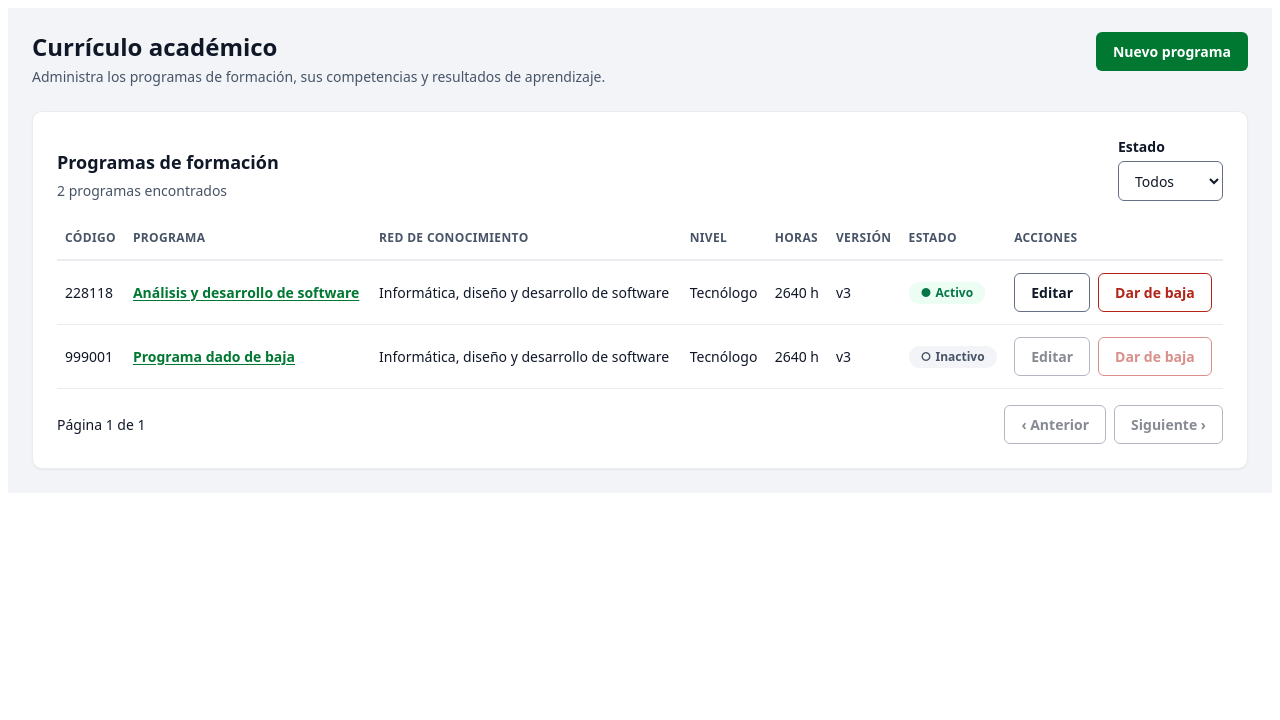
Test: ProgramsPage › E1: crea un programa con el cuerpo del contrato
Expected: the text "228118" is shown, 57,260 -> 125,324
Click the button "Nuevo programa" at (1172, 52), box 1096,32 -> 1248,71
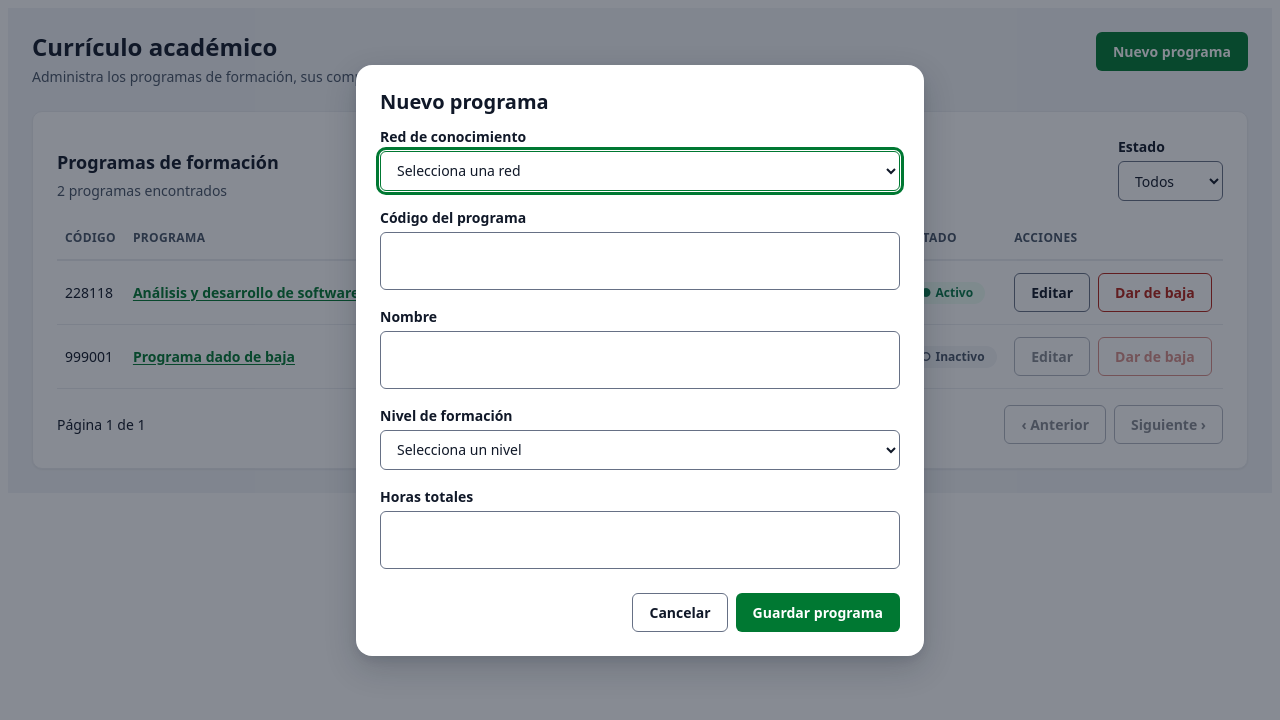
Select "Informática, diseño y desarrollo de software" in the dropdown labelled "Red de conocimiento" at (640, 170), box 380,150 -> 900,190
Type "900001" into the field labelled "Código del programa" at (640, 260), box 380,232 -> 900,290
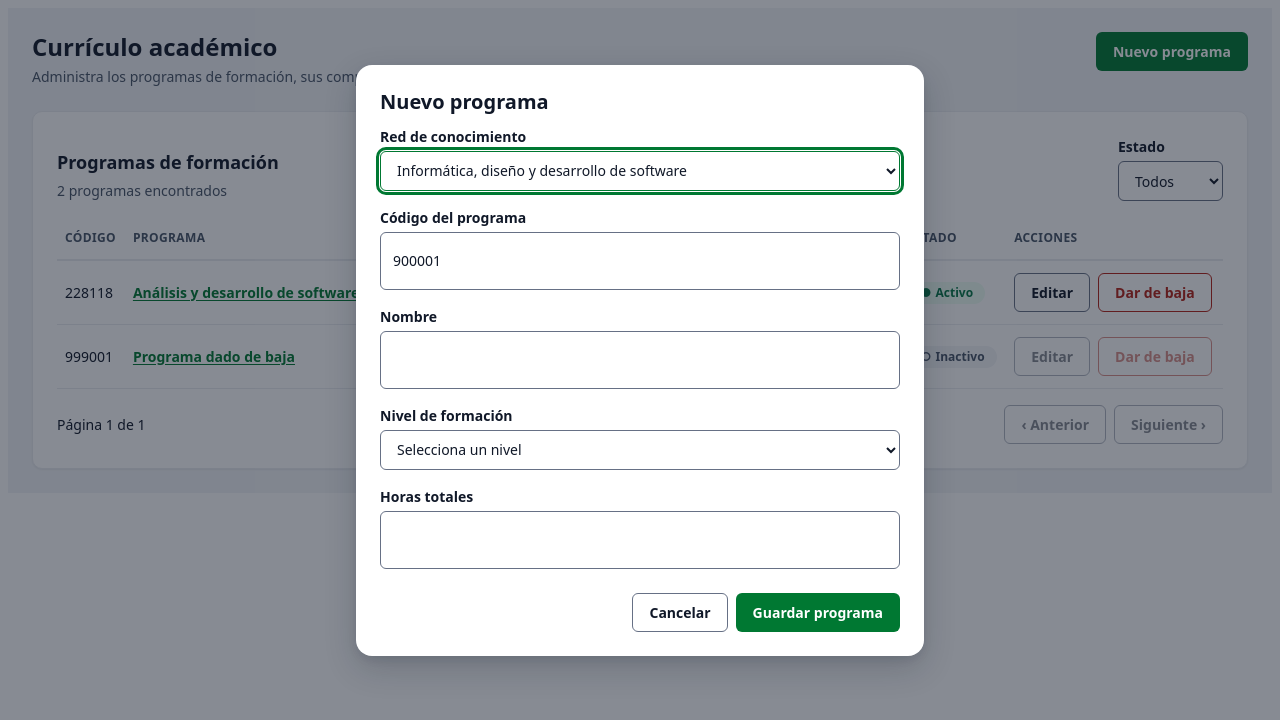
Type "Programa nuevo" into the field labelled "Nombre" at (640, 360), box 380,330 -> 900,388
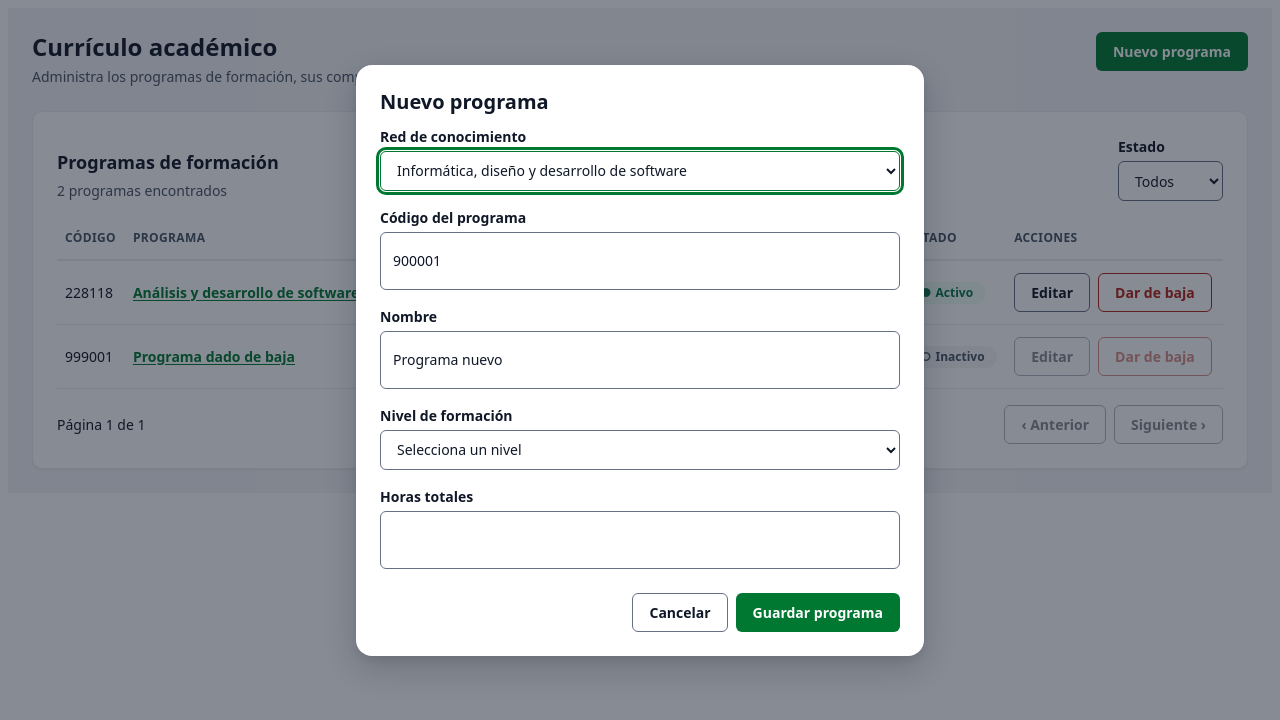
Select "Técnico" in the dropdown labelled "Nivel de formación" at (640, 450), box 380,430 -> 900,470
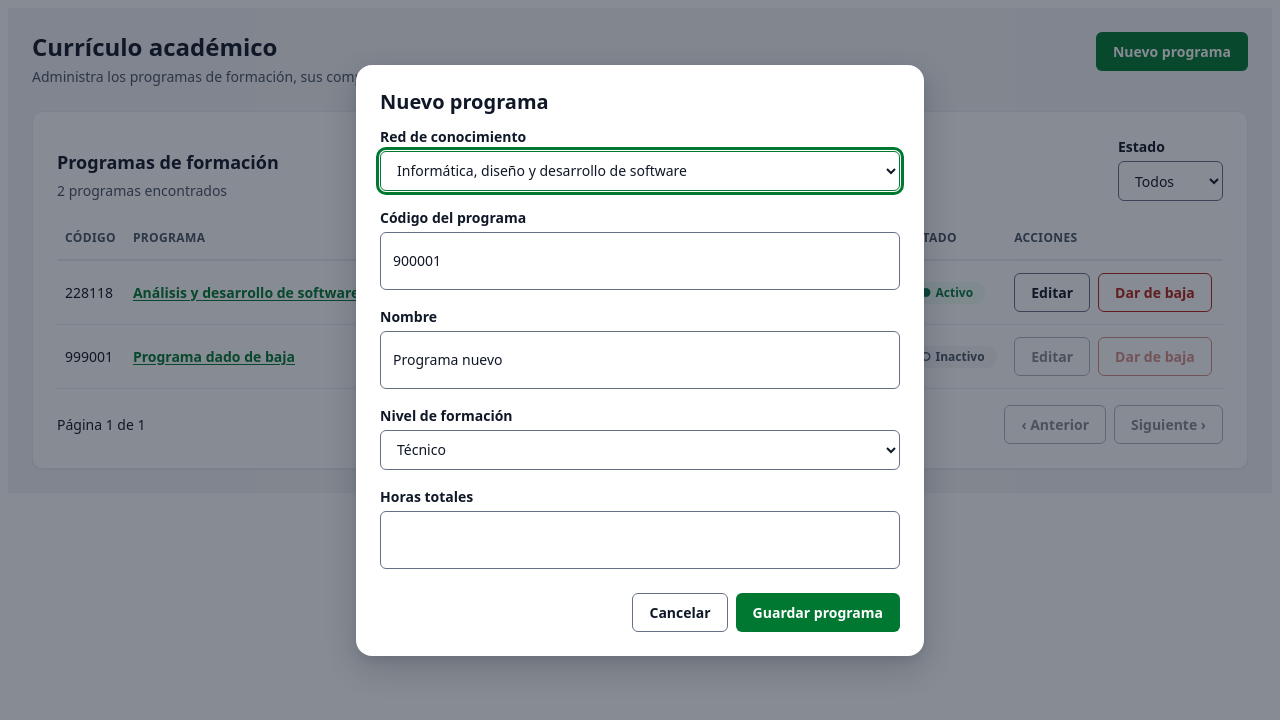
Type "1200" into the field labelled "Horas totales" at (640, 540), box 380,510 -> 900,568
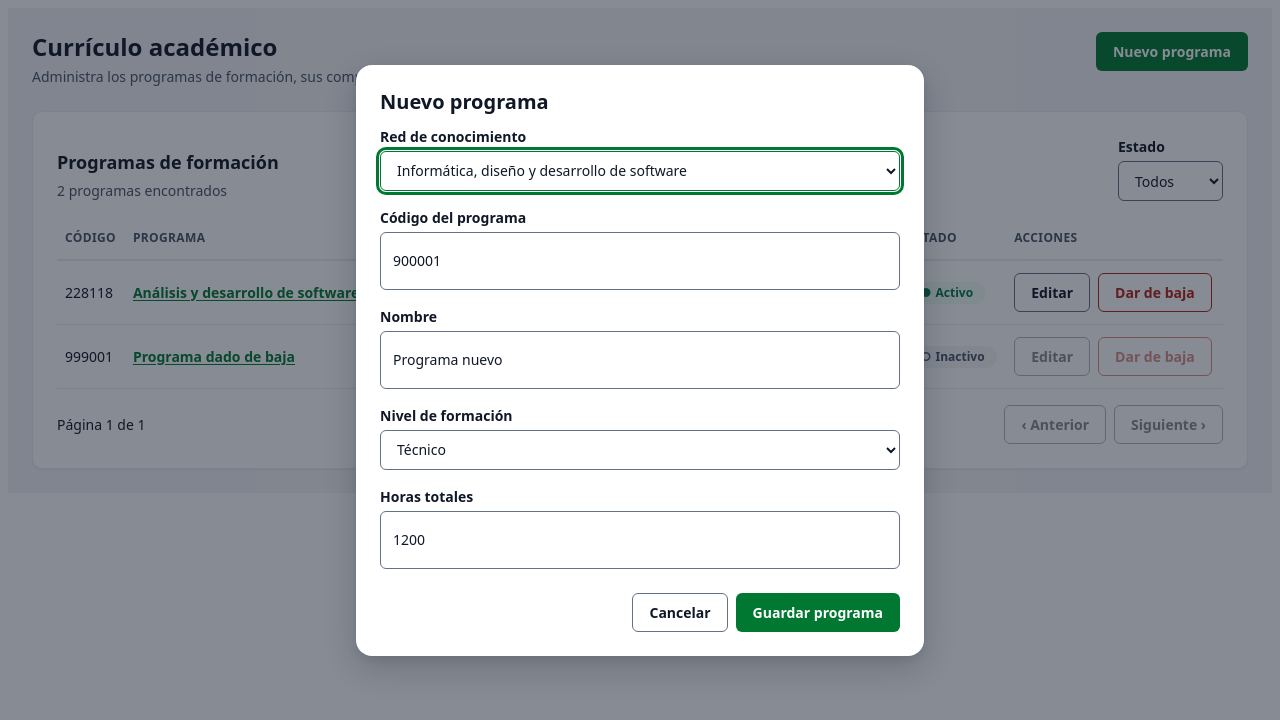
Click the button "Guardar programa" at (818, 612), box 736,592 -> 900,632
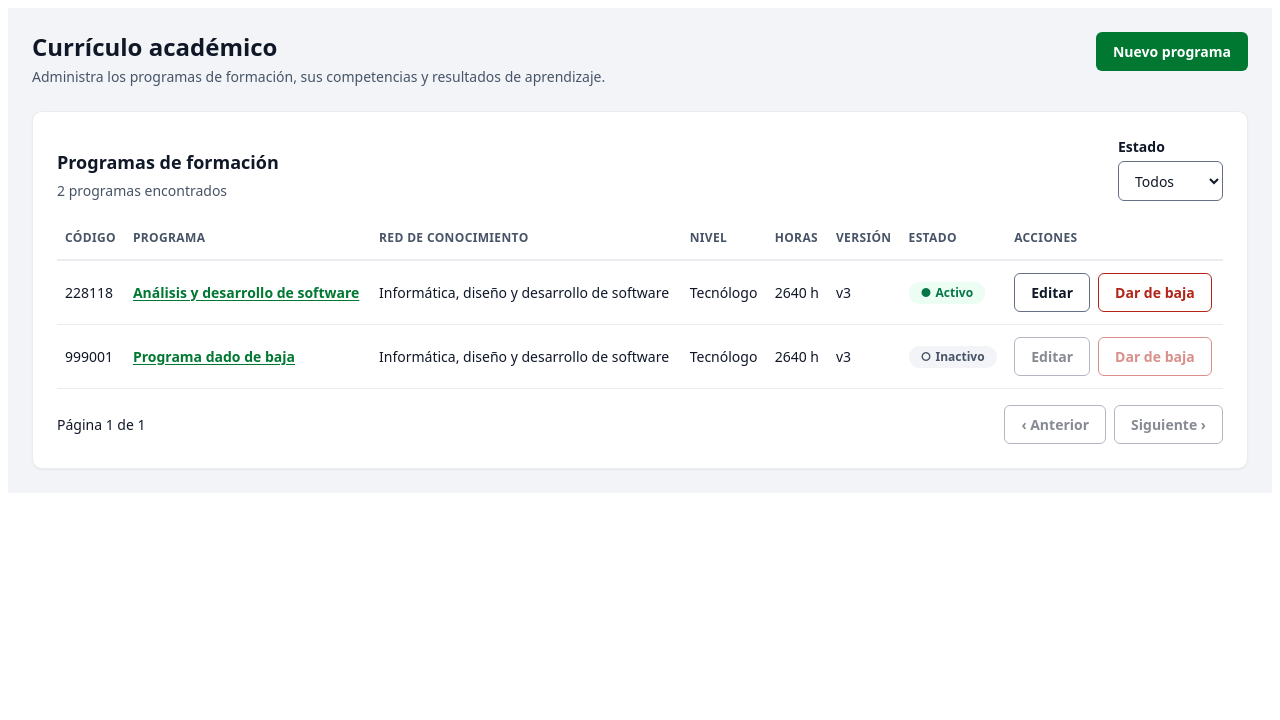
Now the dialog is gone
